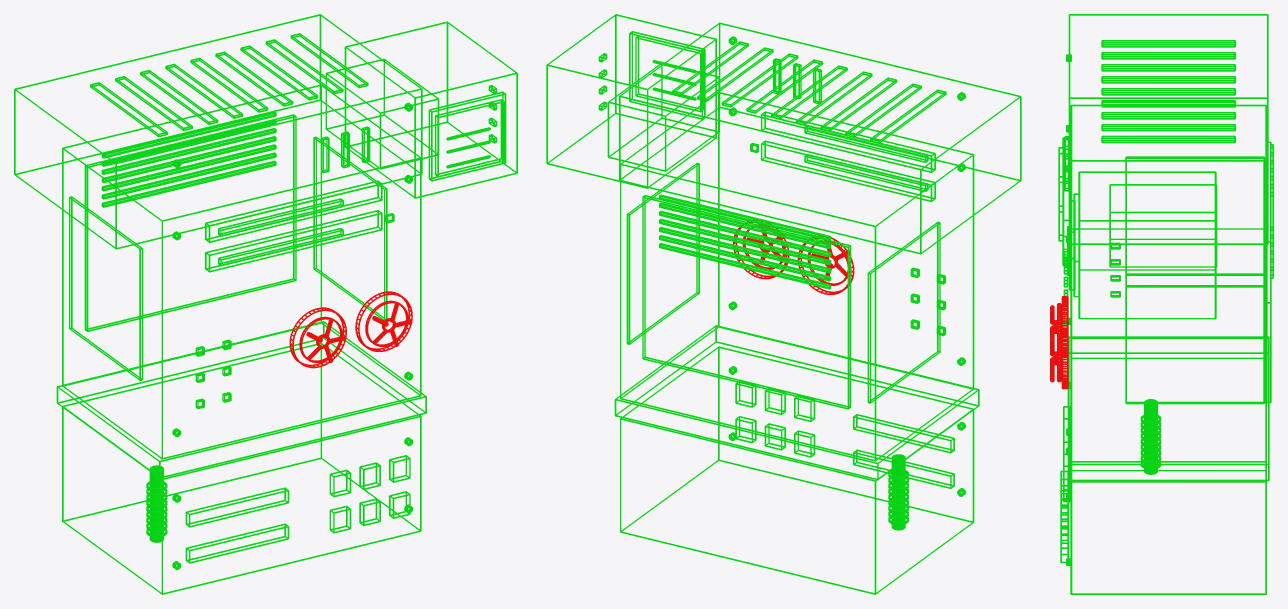
The model's file is asteroid-tracker-highlight-cooling-fans.glb.
3 renders of one model, left to right at view 1: azimuth 30°, elevation 25°; view 2: azimuth 150°, elevation 25°; view 3: azimuth 270°, elevation 25°, orthographic. The views are drawn at different scales.
Parts seen in each view (by area): view 1: chassis technical wire, user-interface technical wire, calibration-device technical wire, data-storage technical wire, cooling-fans technical wire; view 2: chassis technical wire, user-interface technical wire, calibration-device technical wire, data-storage technical wire, cooling-fans technical wire; view 3: chassis technical wire, user-interface technical wire, calibration-device technical wire, cooling-fans technical wire, data-storage technical wire.
Part boxes in pixels (x1,y1,x2,y2): chassis technical wire: (14, 14, 426, 594); user-interface technical wire: (320, 21, 517, 198); calibration-device technical wire: (146, 339, 410, 563); data-storage technical wire: (205, 180, 394, 272); cooling-fans technical wire: (289, 291, 412, 368); chassis technical wire: (614, 22, 1021, 594); user-interface technical wire: (546, 14, 821, 188); calibration-device technical wire: (735, 267, 954, 530); data-storage technical wire: (750, 111, 935, 201); cooling-fans technical wire: (733, 219, 854, 294); chassis technical wire: (1066, 14, 1273, 594); user-interface technical wire: (1064, 136, 1217, 319); calibration-device technical wire: (1060, 251, 1161, 563); cooling-fans technical wire: (1050, 296, 1068, 389); data-storage technical wire: (1058, 137, 1068, 267).
Bounding box in the file's own units: 2.6 × 2.72 × 1.26.
